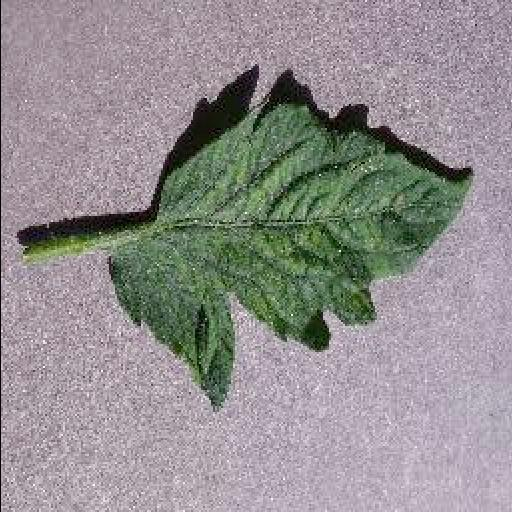Mosaic Virus: (106, 96, 470, 412)
